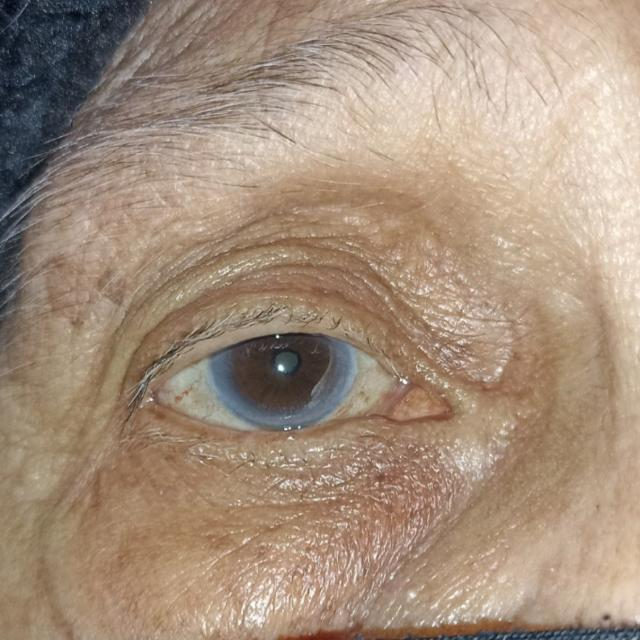Cataract: (209, 296, 354, 432)
